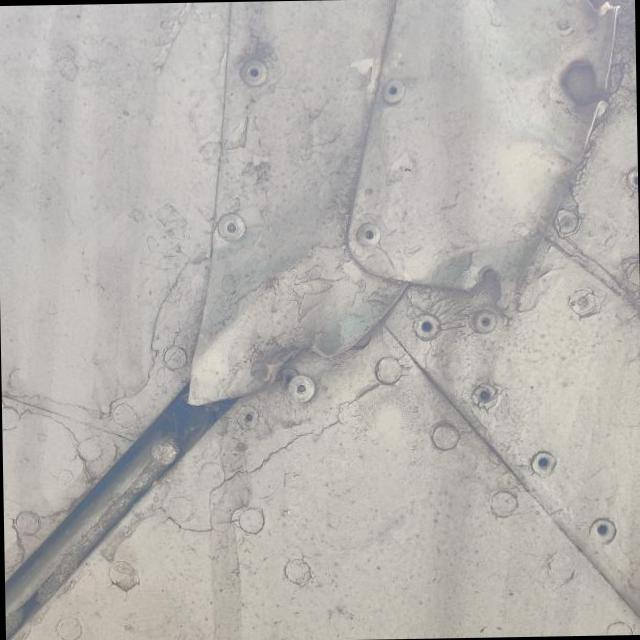Crack: (250, 347, 311, 386)
